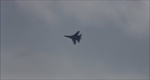maybay_muctieu: (64, 30, 84, 44)
